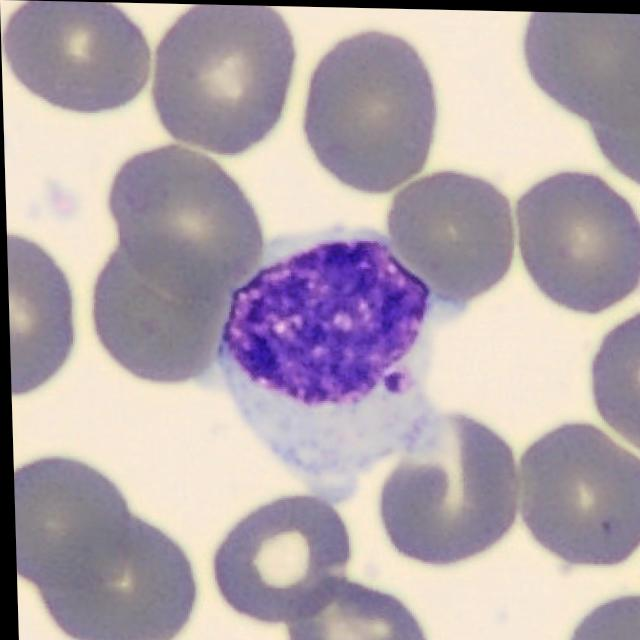Linfocito atipico: (215, 228, 471, 487)
